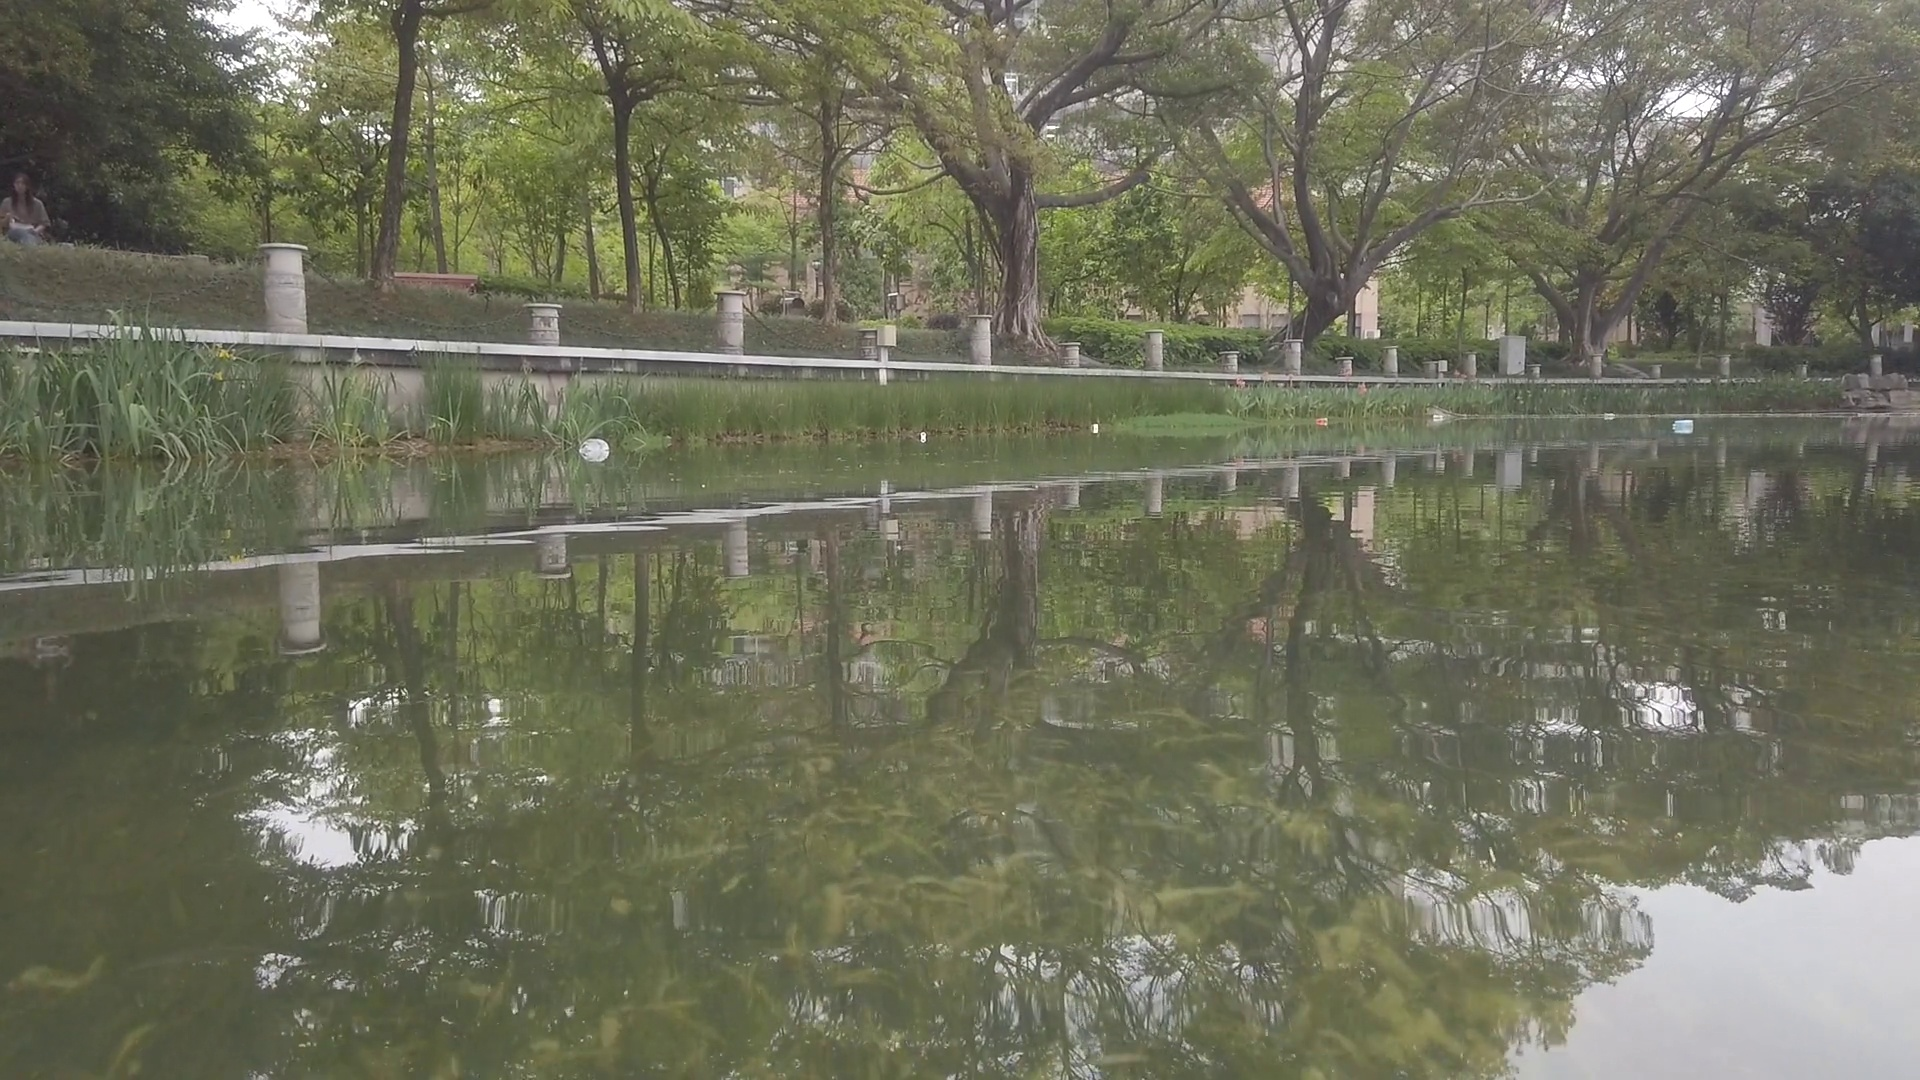bottle: (1315, 417, 1328, 425), (918, 430, 927, 440), (1604, 413, 1615, 419), (1433, 415, 1444, 422)
carton: (1673, 419, 1693, 431), (1089, 423, 1097, 433)
plastic: (579, 439, 611, 458)
